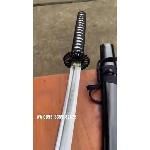Pedang: (45, 11, 93, 150)
